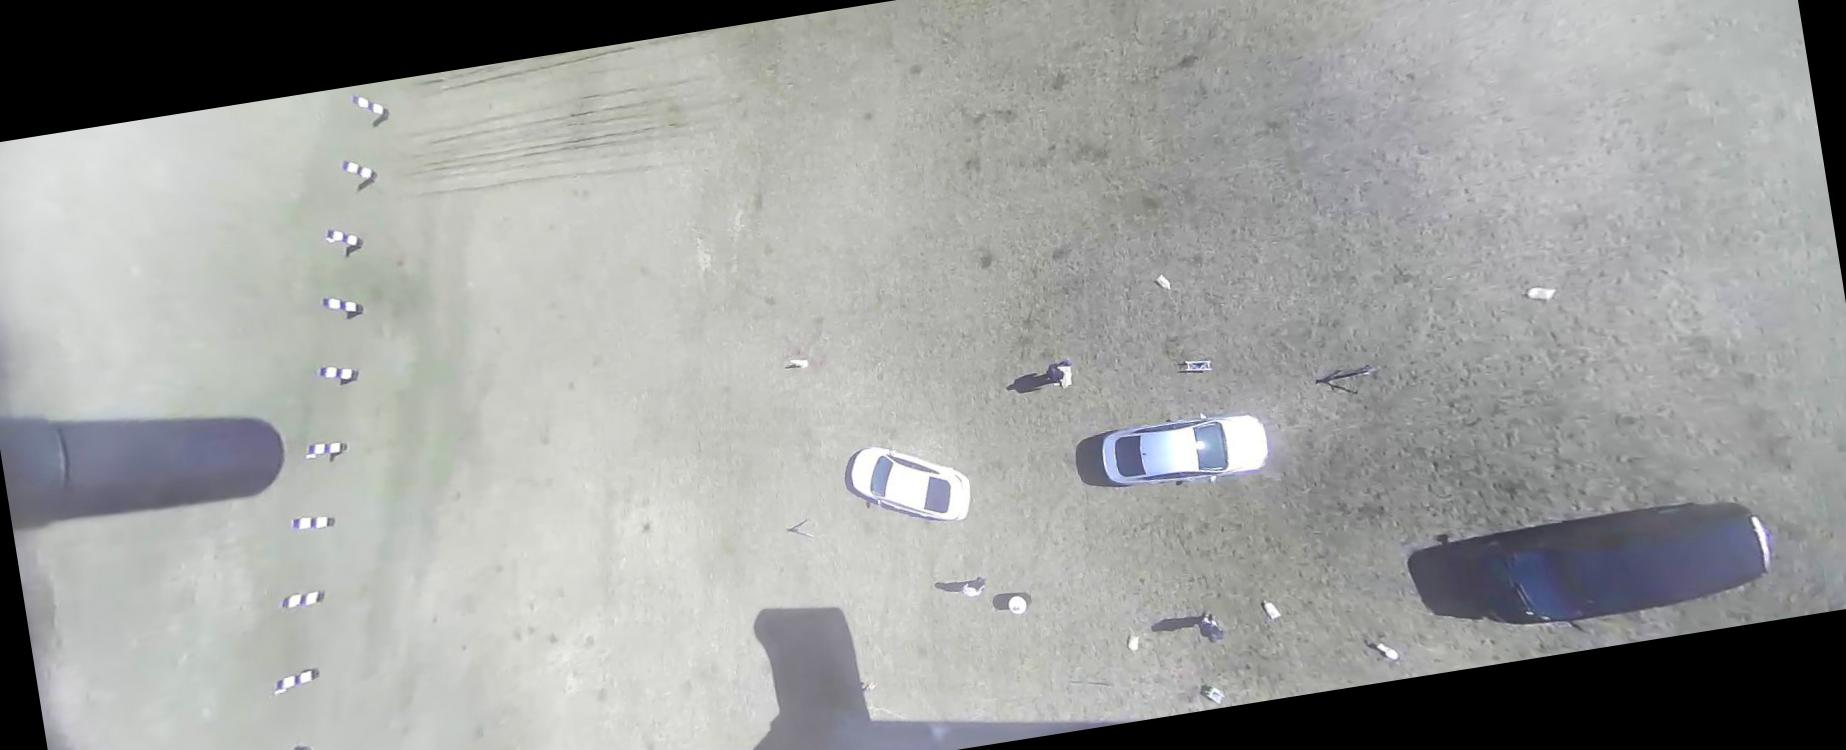vehicle: (1457, 495, 1781, 653), (1093, 401, 1275, 500), (844, 429, 977, 538)
